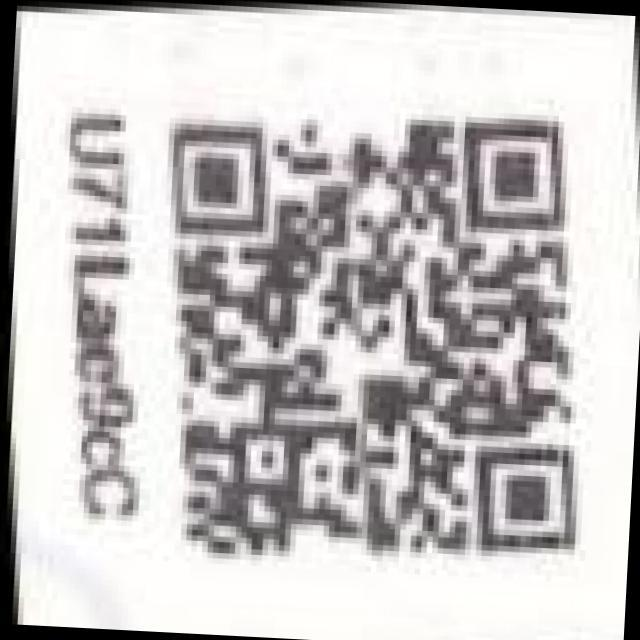QRCode: (135, 69, 621, 595)
